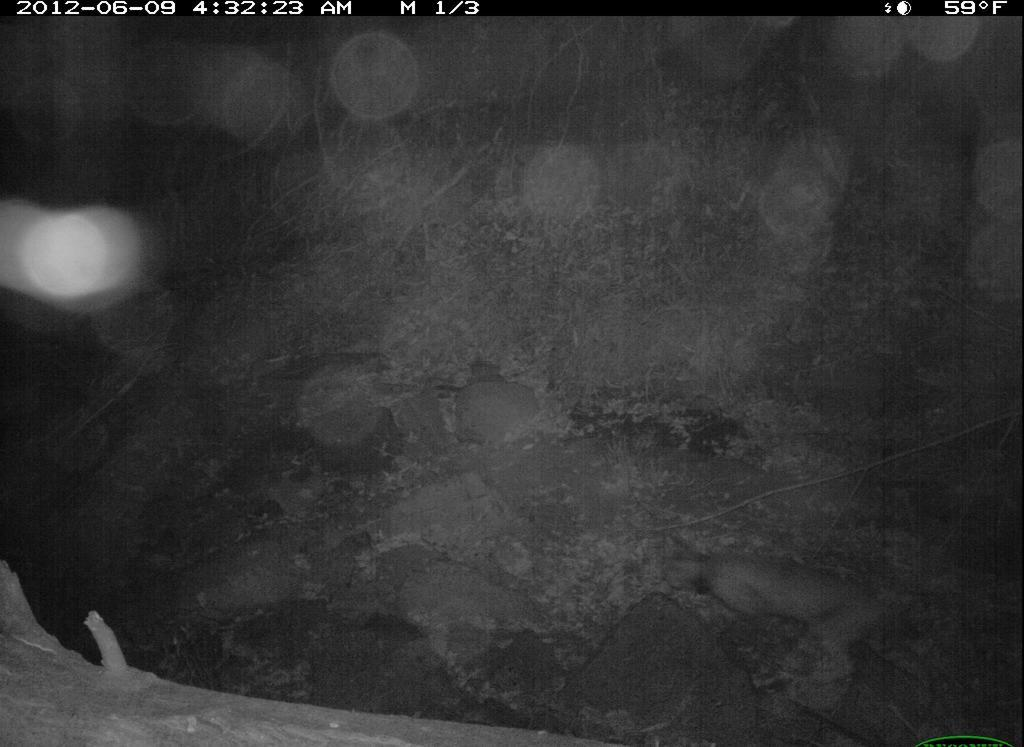bobcat: (655, 528, 908, 684)
